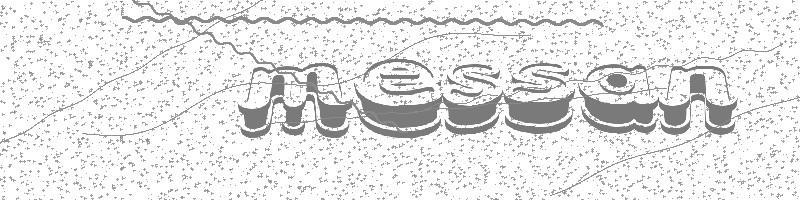a: (579, 64, 658, 133)
e: (355, 59, 441, 137)
m: (239, 63, 353, 137)
n: (660, 66, 737, 133)
s: (505, 63, 575, 134), (441, 65, 503, 135)
